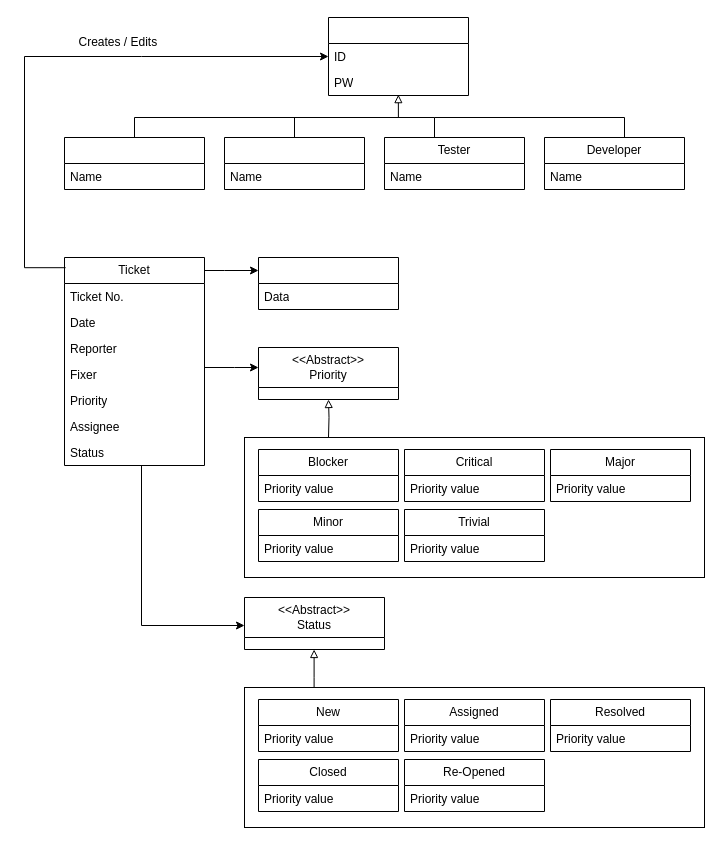
Some shapes in this 722 by 845 pixel diagram are drawn without their labels. Here are the shapes that lost their labels. From the top down, the box of each, then its label:
(328, 16, 468, 96): User
(64, 136, 204, 190): Admin
(224, 136, 364, 190): PL
(258, 256, 398, 310): Comment
